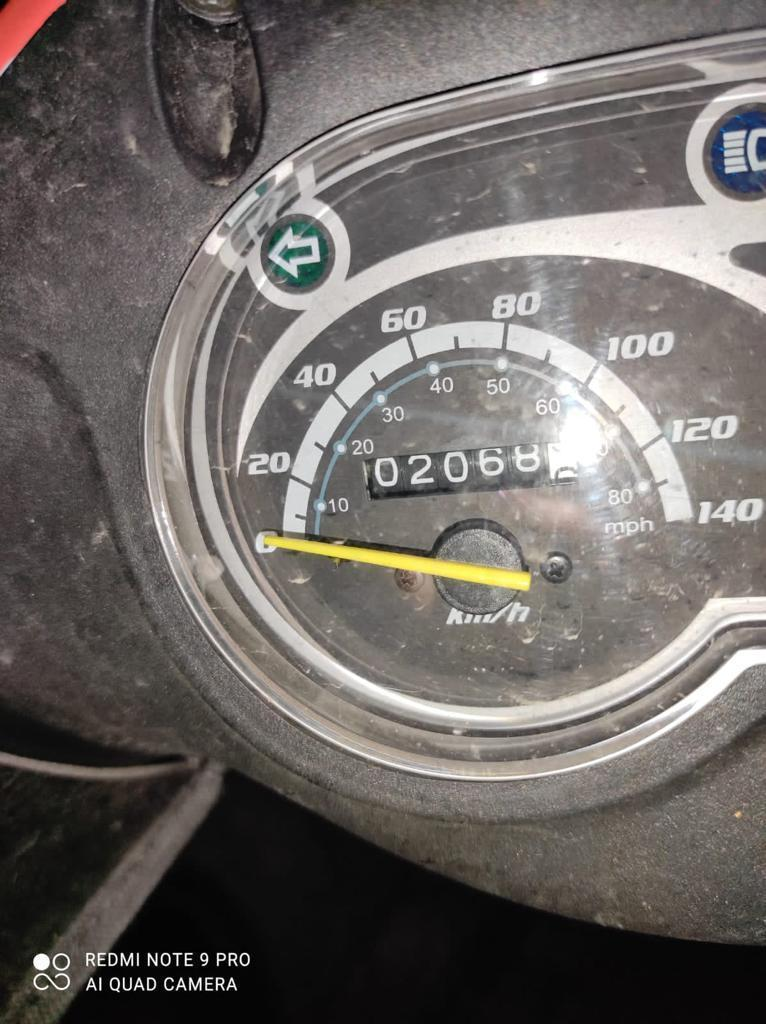0: (372, 456, 402, 489), (442, 450, 469, 483), (362, 438, 374, 453)
2: (403, 451, 436, 487)
6: (477, 445, 505, 479), (551, 463, 580, 495)
8: (512, 440, 543, 476)
odometer: (360, 438, 583, 503)
